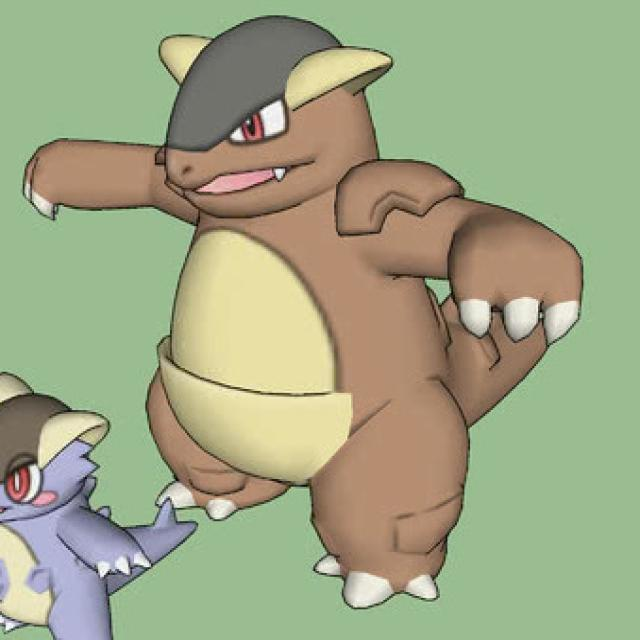Kangaskhan: (148, 23, 465, 455)
